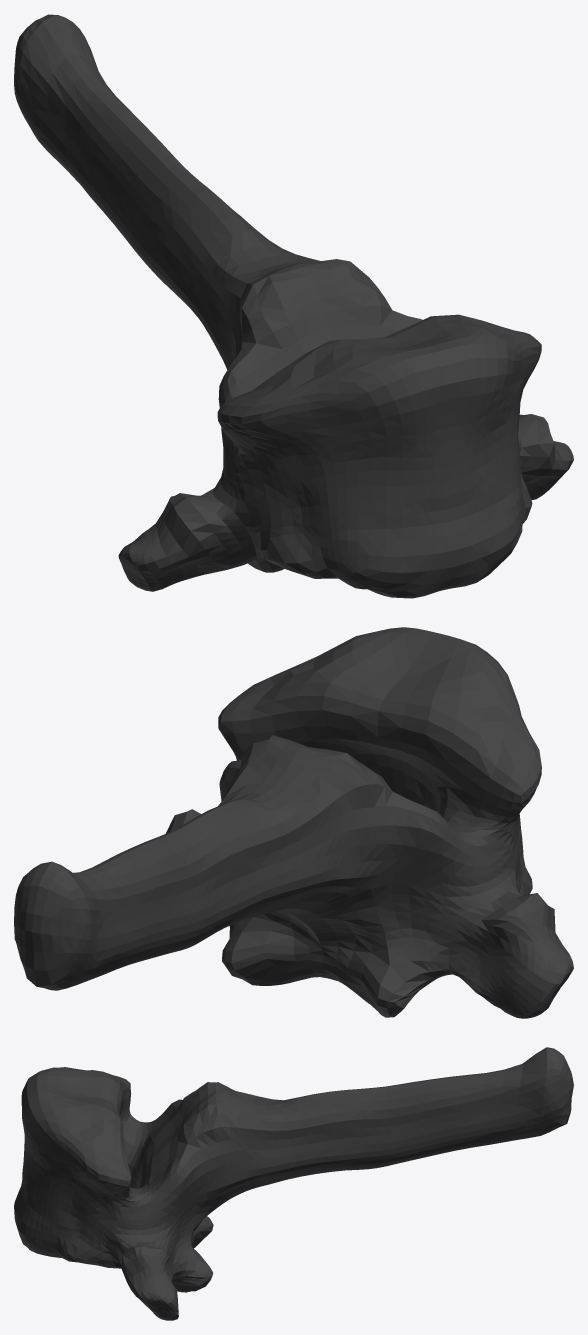
3 views of the same model, one above another, from view 1: azimuth 30°, elevation 25°; view 2: azimuth 150°, elevation 25°; view 3: azimuth 270°, elevation 25° (orthographic). The views are drawn at different scales.
Parts seen in each view (by area): view 1: B_T2; view 2: B_T2; view 3: B_T2.
Boxes of the visible parts, box(x1,y1,x2,y2) form: B_T2: box(14, 14, 573, 598); B_T2: box(14, 627, 573, 1018); B_T2: box(14, 1047, 573, 1320).
Bounding box in the file's own units: 0.00272 × 0.00198 × 0.00449.
Materials: 1 (1 with a texture image).
